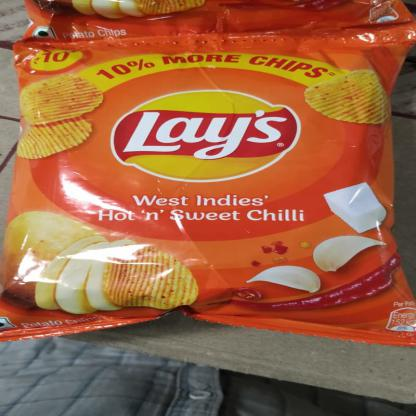potatochip: (0, 22, 415, 346), (0, 0, 415, 46)
